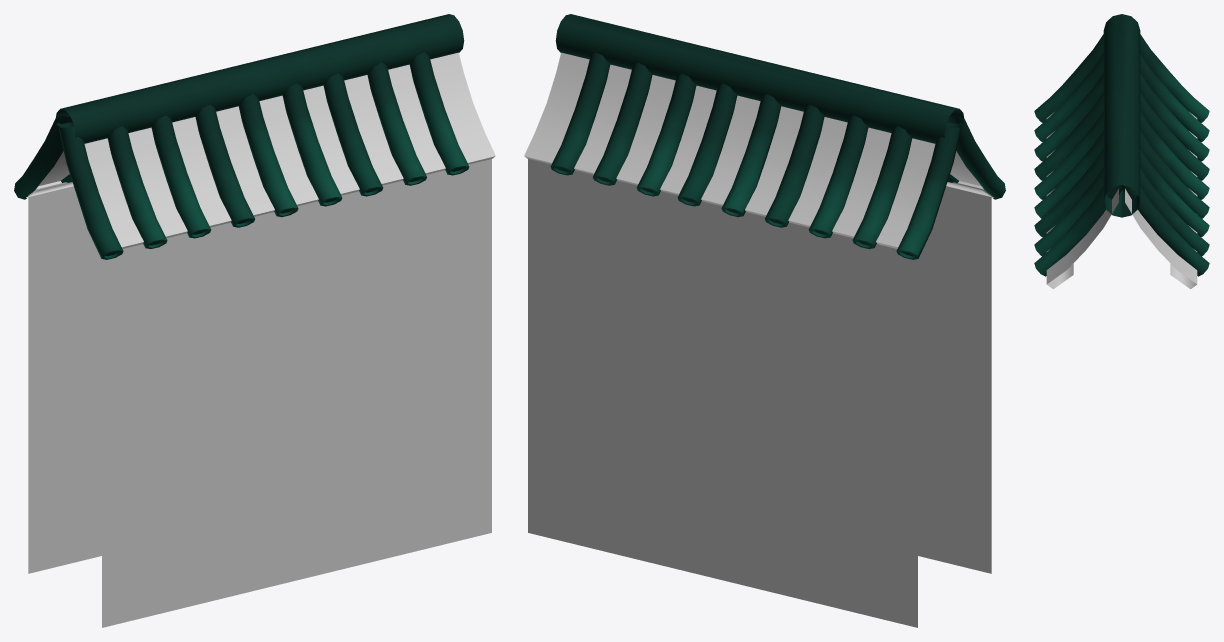
The model's file is Wall_Mid.fbx.
3 renders of one model, left to right at view 1: azimuth 30°, elevation 25°; view 2: azimuth 150°, elevation 25°; view 3: azimuth 270°, elevation 25°, orthographic. The views are drawn at different scales.
Parts seen in each view (by area): view 1: B1_Walls_Mid; view 2: B1_Walls_Mid; view 3: B1_Walls_Mid.
Boxes of the visible parts, <box> form: B1_Walls_Mid: <box>14,14,495,627</box>; B1_Walls_Mid: <box>524,14,1005,627</box>; B1_Walls_Mid: <box>1034,14,1209,289</box>.
Size of the model in its own units: 716 by 843 by 303.
